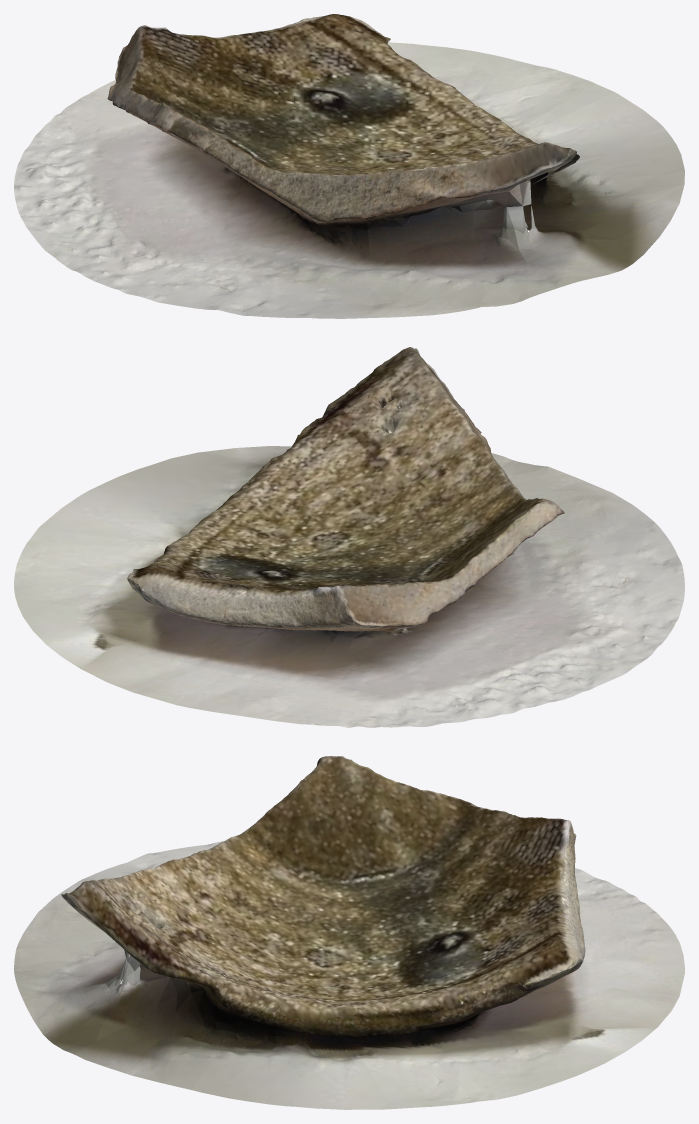
The model's file is model03_small.glb.
3 views of the same model, one above another, from view 1: azimuth 30°, elevation 25°; view 2: azimuth 150°, elevation 25°; view 3: azimuth 270°, elevation 25° (orthographic).
Visible parts, largest first — view 1: mesh; view 2: mesh; view 3: mesh.
Boxes of the visible parts, x1,y1,x2,y2 form: mesh: (14,14,684,318); mesh: (14,347,684,727); mesh: (14,756,684,1109).
Bounding box in the file's own units: 0.3001 × 0.0647 × 0.2979.
Materials: 1 (1 with a texture image).
